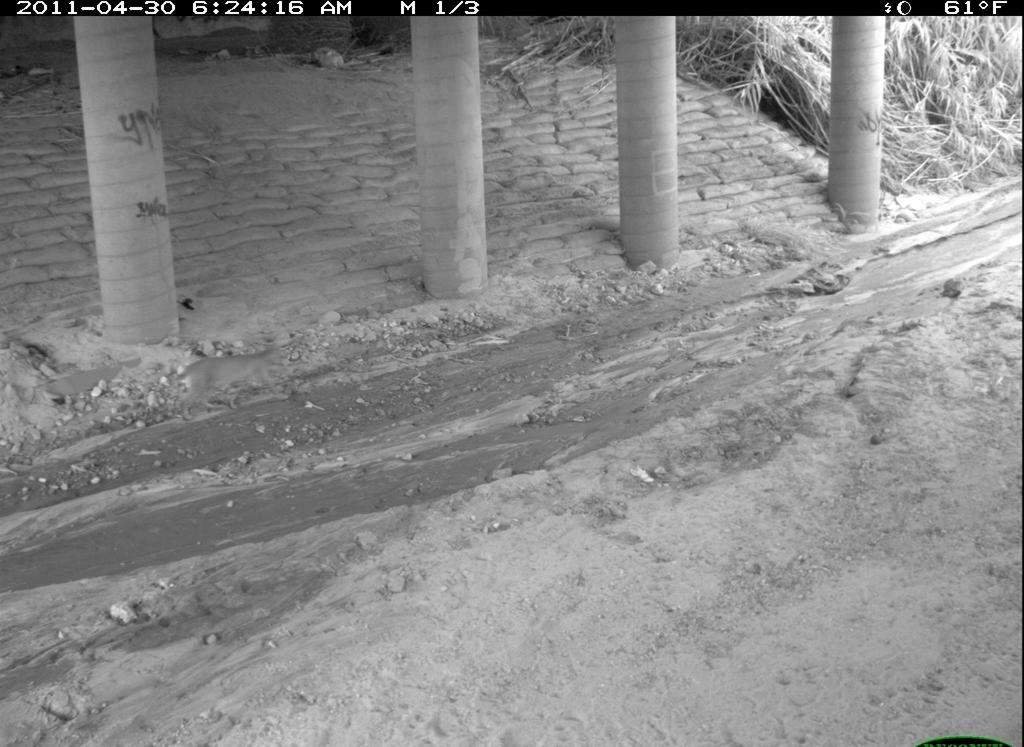bobcat: (336, 673, 592, 747)
